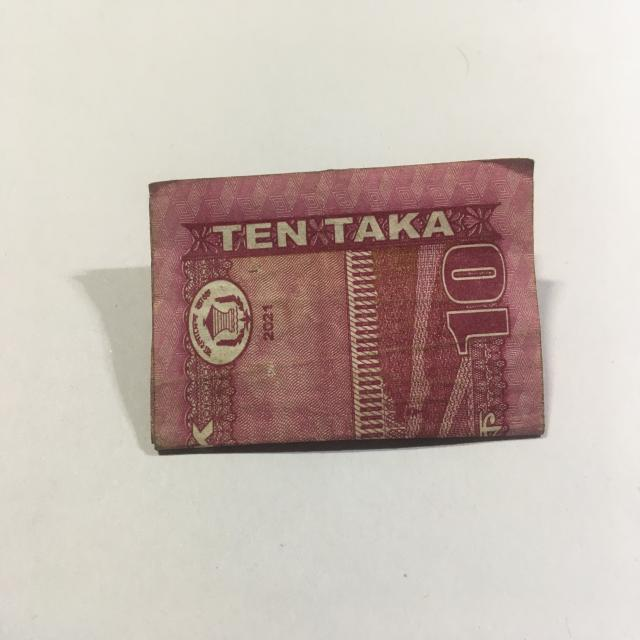Taka: (136, 150, 553, 455)
